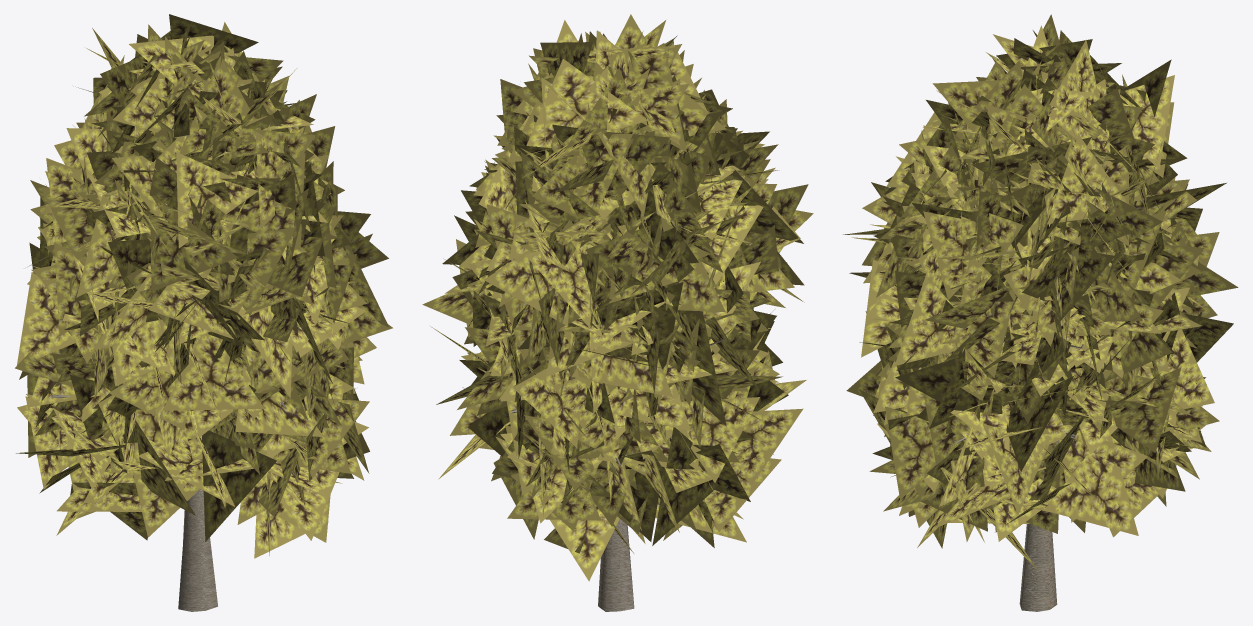
The model's file is Alnus_Rubra_Autumn_Adult.glb.
3 renders of one model, left to right at view 1: azimuth 30°, elevation 25°; view 2: azimuth 150°, elevation 25°; view 3: azimuth 270°, elevation 25°, orthographic. The views are drawn at different scales.
Visible parts, largest first — view 1: Alnus_Rubra_Autumn_Adult__LOD3; view 2: Alnus_Rubra_Autumn_Adult__LOD3; view 3: Alnus_Rubra_Autumn_Adult__LOD3.
Boxes of the visible parts, x1,y1,x2,y2 form: Alnus_Rubra_Autumn_Adult__LOD3: (15,14,392,611); Alnus_Rubra_Autumn_Adult__LOD3: (422,14,813,611); Alnus_Rubra_Autumn_Adult__LOD3: (843,14,1238,611).
Bounding box in the file's own units: 14.39 × 23.11 × 14.69.
Materials: 2 (2 with a texture image).
